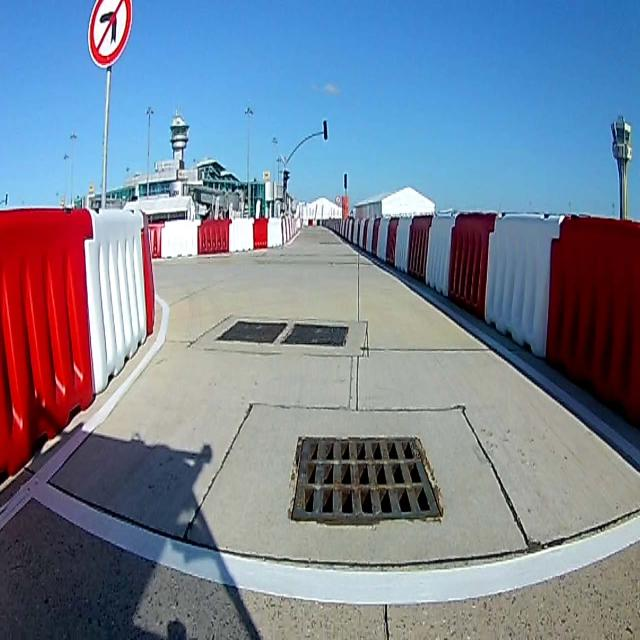soladonulmez: (88, 1, 134, 69)
